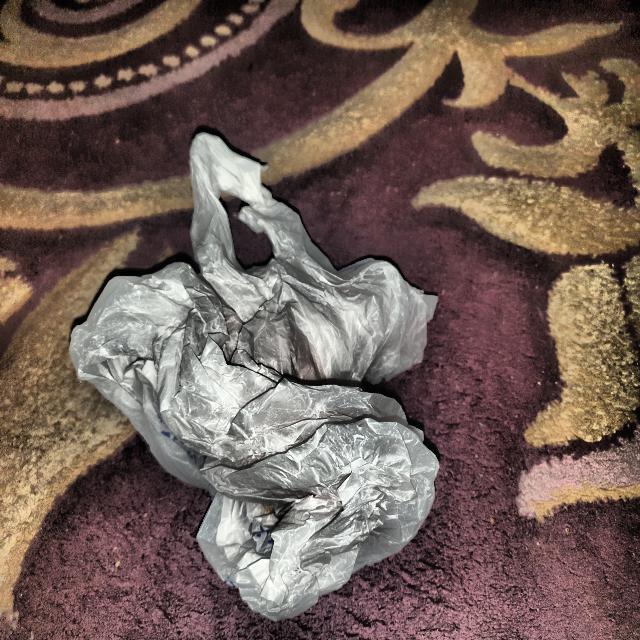plastic bag: (58, 111, 444, 632)
